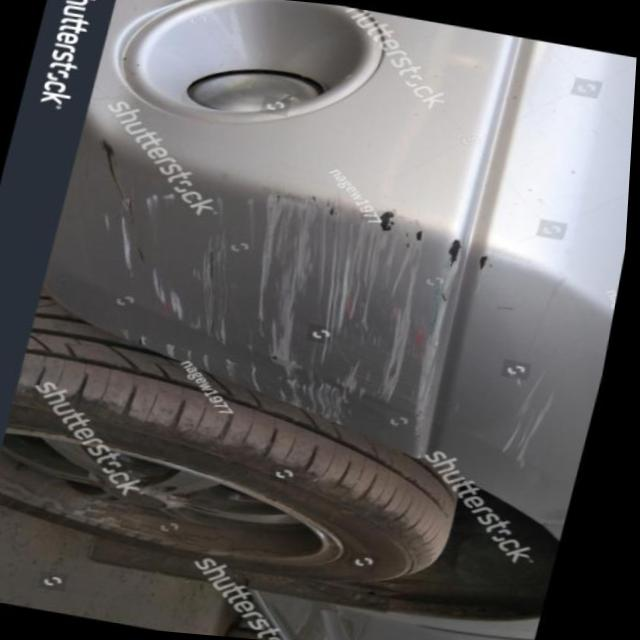Scratch: (46, 140, 521, 456)
